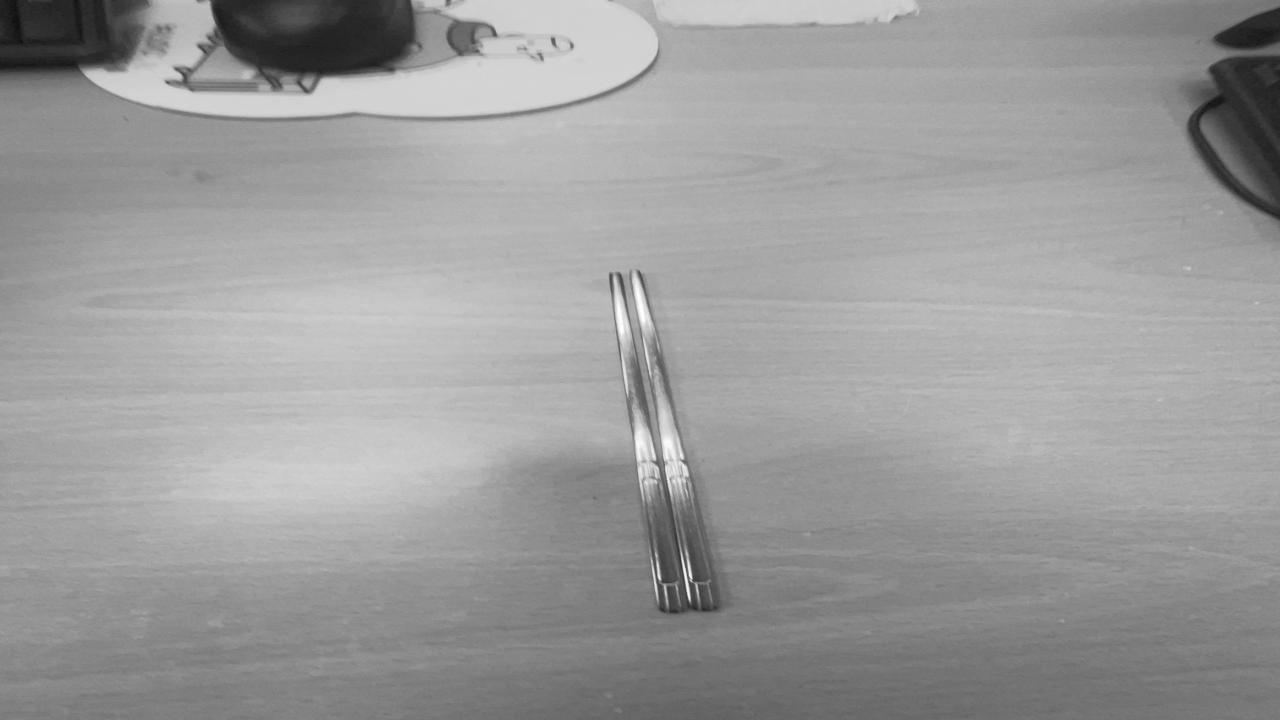chopstick: (606, 274, 724, 612)
